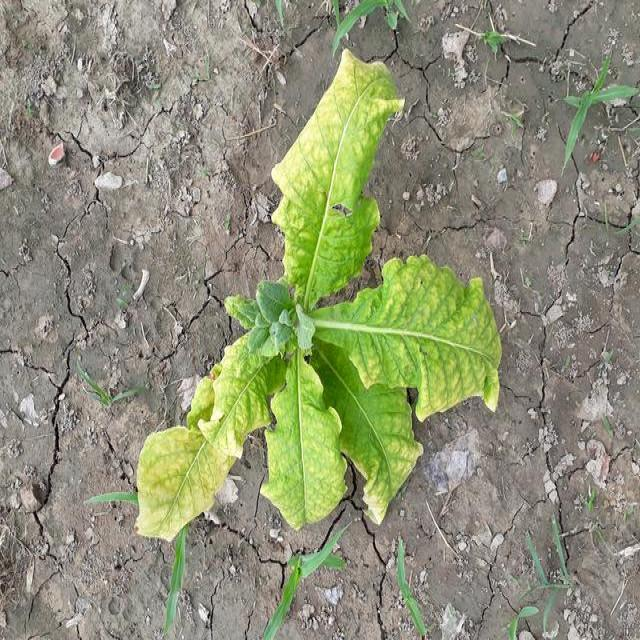crop: (142, 44, 492, 555)
